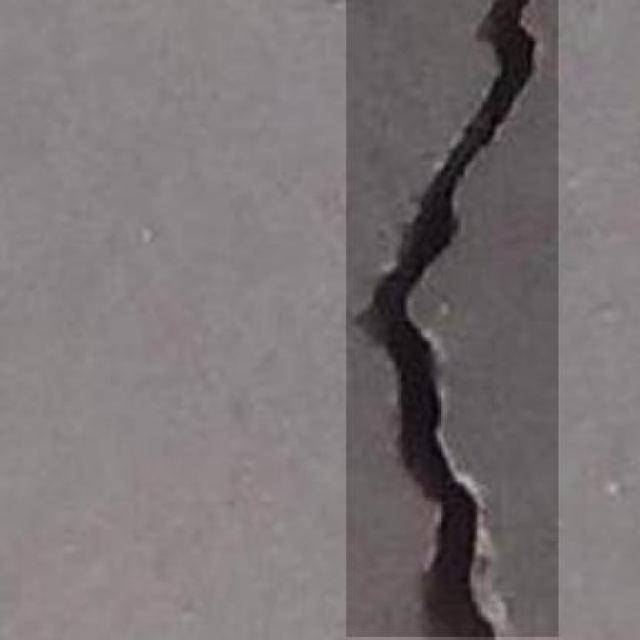Crack: (343, 0, 567, 640)
